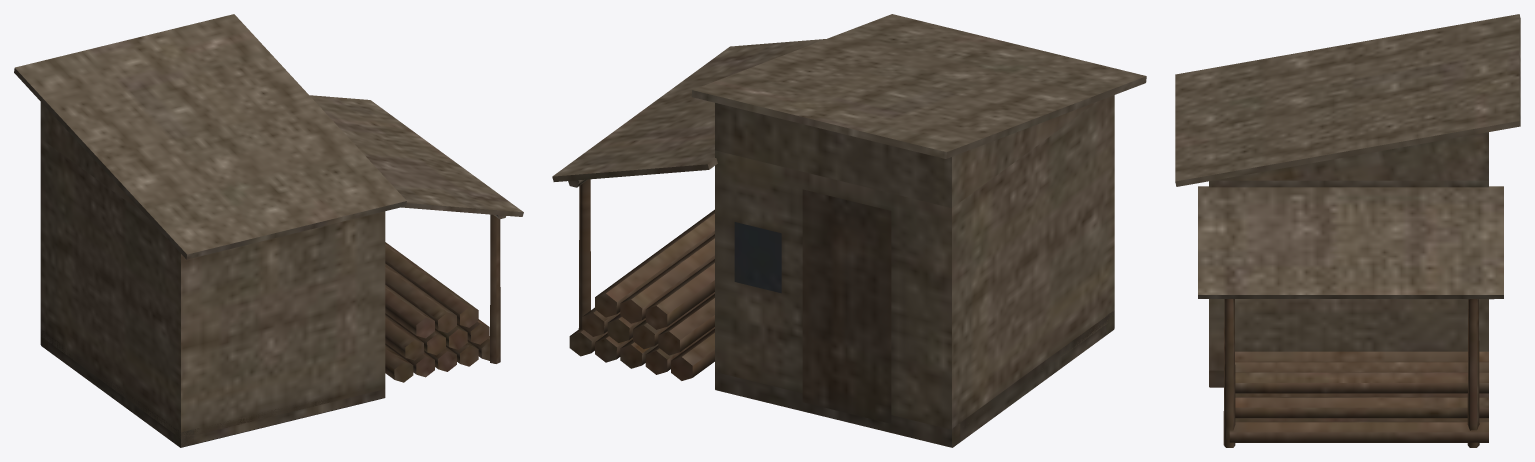
The model's file is b_lumber_far.glb.
The picture shows the model from 3 angles, left to right: view 1: azimuth 30°, elevation 25°; view 2: azimuth 150°, elevation 25°; view 3: azimuth 270°, elevation 25°; orthographic projection. The views are drawn at different scales.
Visible parts, largest first — view 1: b_lumber_far; view 2: b_lumber_far; view 3: b_lumber_far.
Boxes of the visible parts, <box> form: b_lumber_far: <box>14,14,523,447</box>; b_lumber_far: <box>552,14,1146,447</box>; b_lumber_far: <box>1175,14,1520,447</box>.
Size of the model in its own units: 3.87 by 2.86 by 3.33.
1 material, 1 textured.
